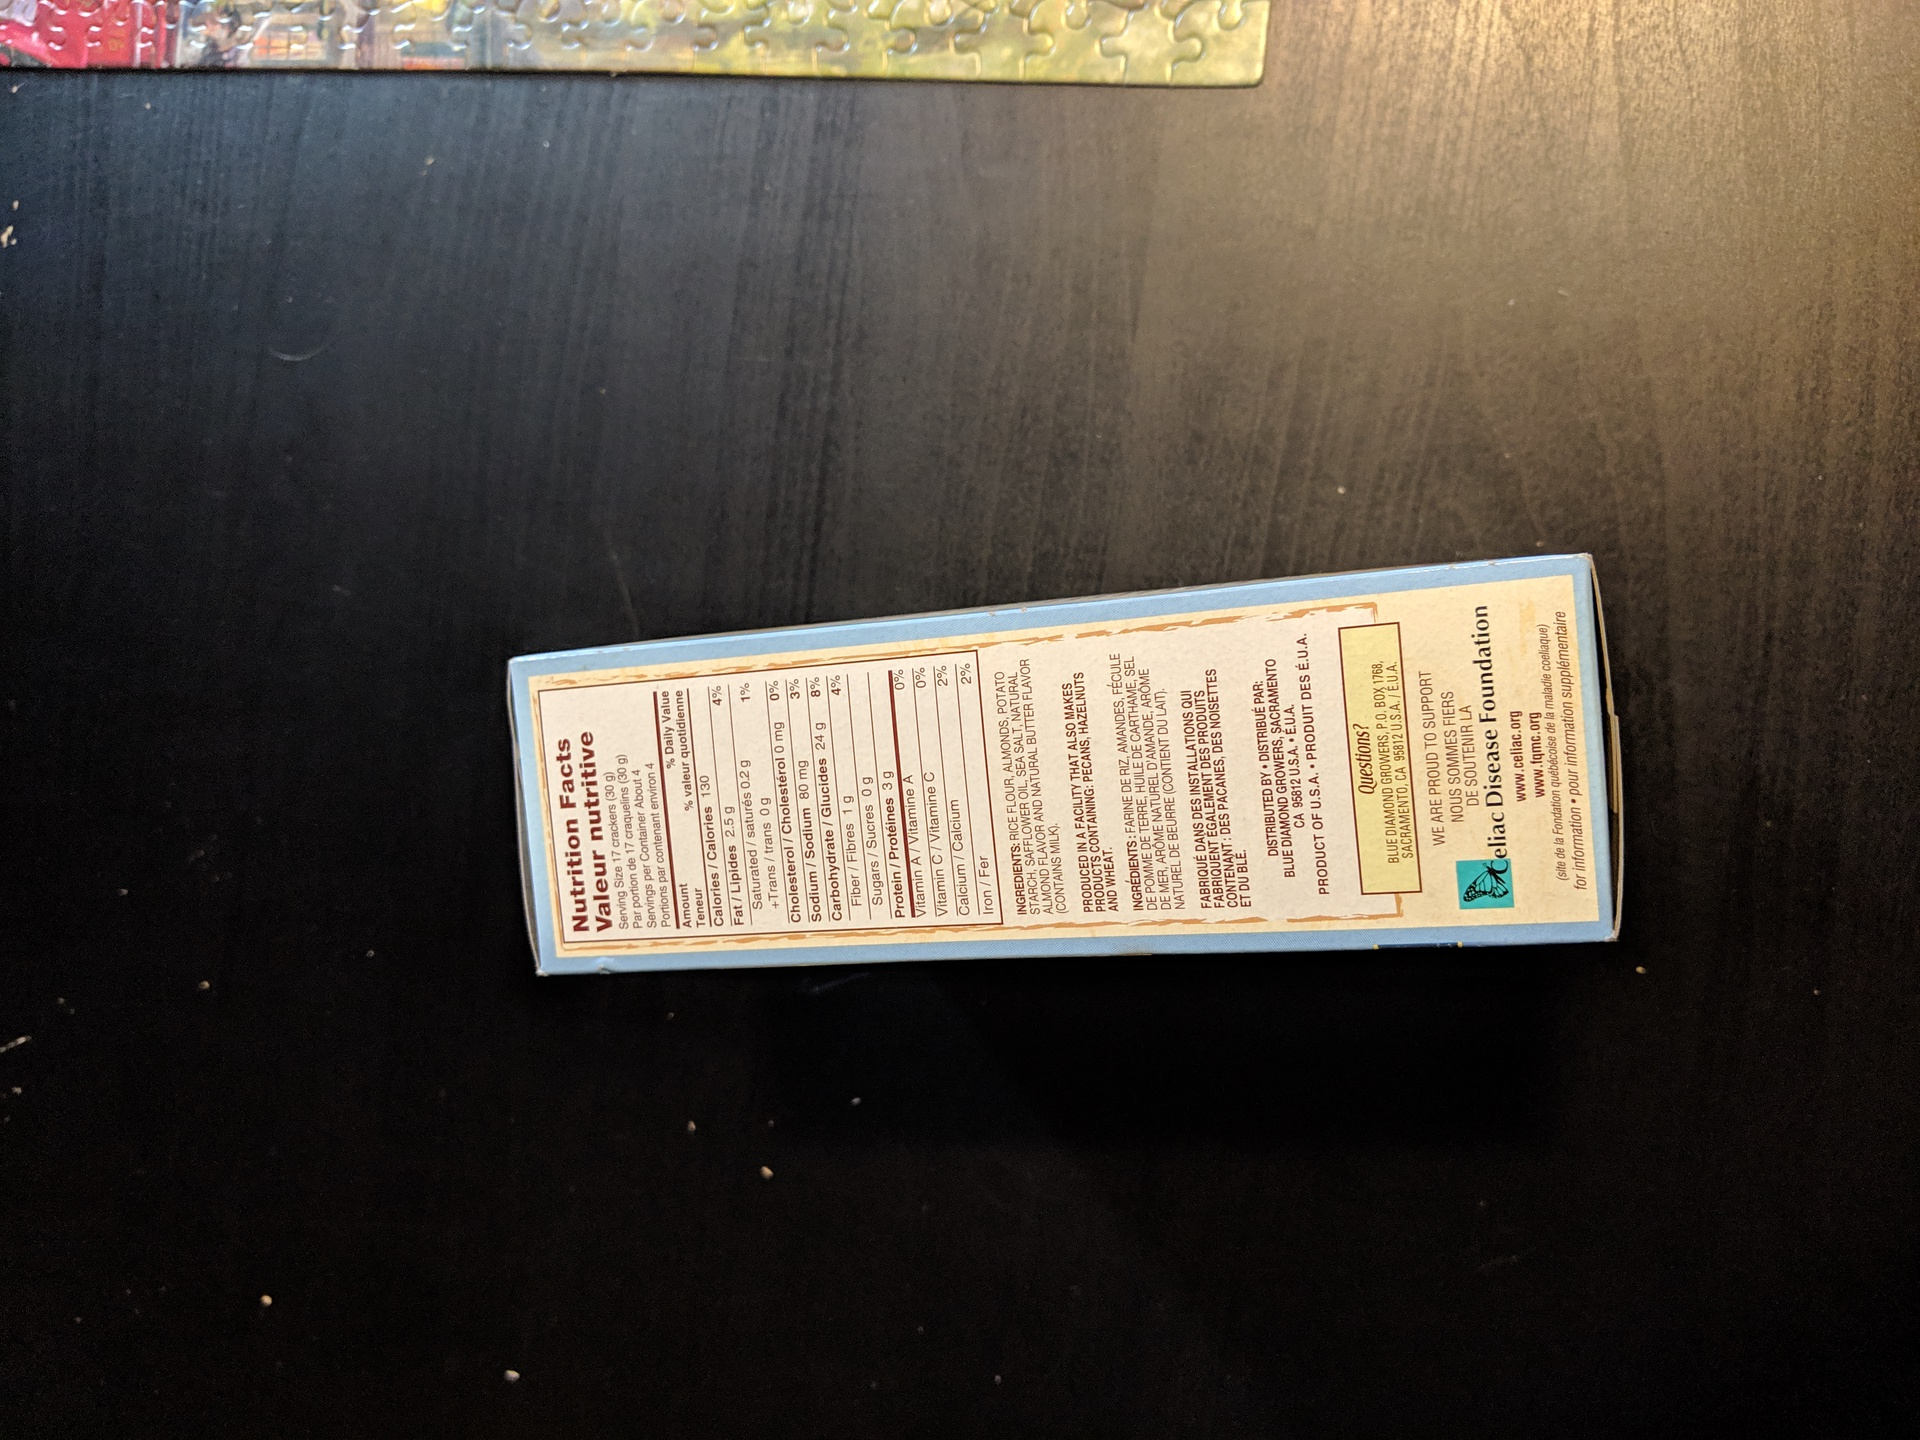blue_diamond_nut_thins_almond_seasalt: (506, 605, 1621, 974)
